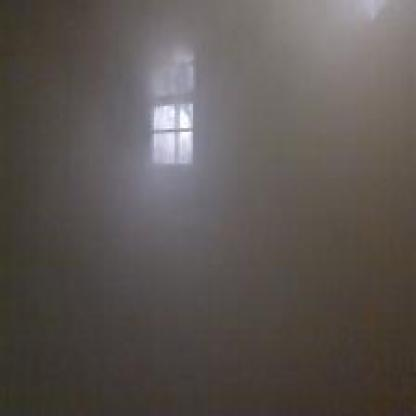other: (146, 100, 194, 156)
